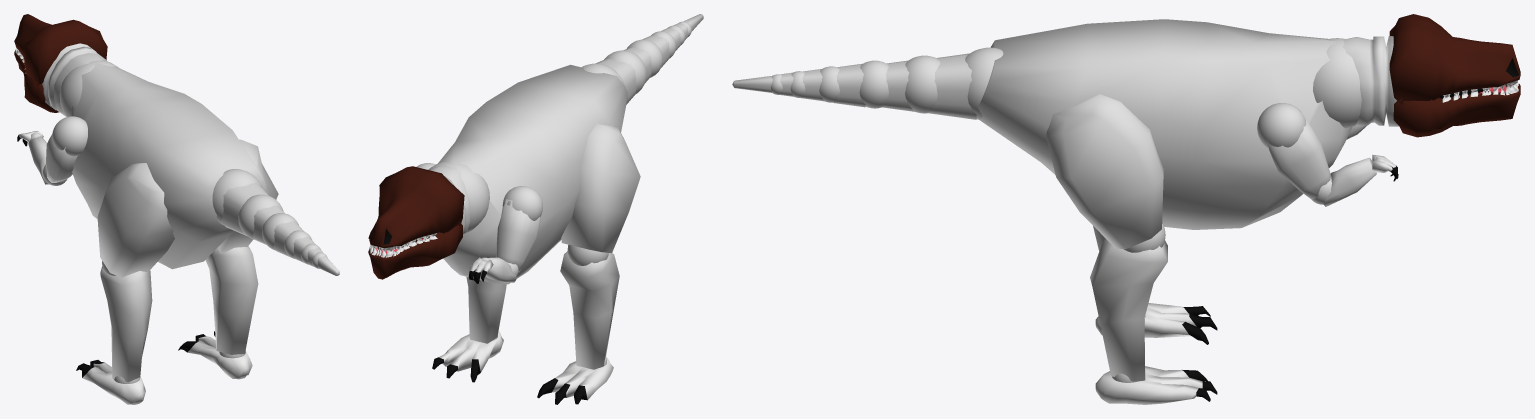
File: Vladozavr.fbx
The picture shows the model from 3 angles, left to right: view 1: azimuth 30°, elevation 25°; view 2: azimuth 150°, elevation 25°; view 3: azimuth 270°, elevation 25°; orthographic projection. The views are drawn at different scales.
Visible parts, largest first — view 1: Body, LeftLeg, RightSubLeg, LeftSubLeg, JawUp, Neck, LeftFoot, RightFoot, LeftArmJoint, Tail, NeckJoint, RightLeg (+9 smaller); view 2: Body, LeftLeg, JawUp, LeftSubLeg, JawDown, RightSubLeg, LeftArm, LeftFoot, RightFoot, NeckJoint, LeftArmJoint, Neck (+9 smaller); view 3: Body, RightLeg, JawUp, RightSubLeg, JawDown, Neck, RightFoot, NeckJoint, RightArm, LeftFoot, Tail, RightArmJoint (+6 smaller).
Boxes of the visible parts, left/top/right/bottom form: Body: left=70, top=62, right=266, bottom=269; LeftLeg: left=97, top=163, right=174, bottom=277; RightSubLeg: left=205, top=246, right=258, bottom=354; LeftSubLeg: left=100, top=266, right=152, bottom=382; JawUp: left=14, top=14, right=107, bottom=85; Neck: left=42, top=43, right=106, bottom=116; LeftFoot: left=76, top=360, right=145, bottom=404; RightFoot: left=178, top=331, right=252, bottom=379; LeftArmJoint: left=52, top=116, right=87, bottom=156; Tail: left=221, top=182, right=268, bottom=235; NeckJoint: left=59, top=60, right=118, bottom=117; RightLeg: left=218, top=139, right=278, bottom=253; Body: left=438, top=64, right=627, bottom=284; LeftLeg: left=561, top=124, right=640, bottom=253; JawUp: left=368, top=166, right=464, bottom=251; LeftSubLeg: left=560, top=251, right=619, bottom=369; JawDown: left=368, top=222, right=462, bottom=279; RightSubLeg: left=466, top=277, right=506, bottom=343; LeftArm: left=496, top=199, right=541, bottom=272; LeftFoot: left=537, top=356, right=613, bottom=404; RightFoot: left=432, top=331, right=503, bottom=382; NeckJoint: left=428, top=161, right=489, bottom=233; LeftArmJoint: left=502, top=186, right=542, bottom=220; Neck: left=429, top=165, right=470, bottom=234; Body: left=978, top=19, right=1352, bottom=229; RightLeg: left=1046, top=94, right=1163, bottom=248; JawUp: left=1389, top=14, right=1520, bottom=104; RightSubLeg: left=1090, top=239, right=1167, bottom=381; JawDown: left=1393, top=82, right=1520, bottom=137; Neck: left=1342, top=36, right=1399, bottom=126; RightFoot: left=1095, top=366, right=1217, bottom=404; NeckJoint: left=1313, top=38, right=1361, bottom=128; RightArm: left=1266, top=110, right=1331, bottom=199; LeftFoot: left=1095, top=303, right=1217, bottom=344; Tail: left=928, top=53, right=976, bottom=119; RightArmJoint: left=1257, top=103, right=1306, bottom=148.
Bounding box in the file's own units: 260 × 450 × 933.
